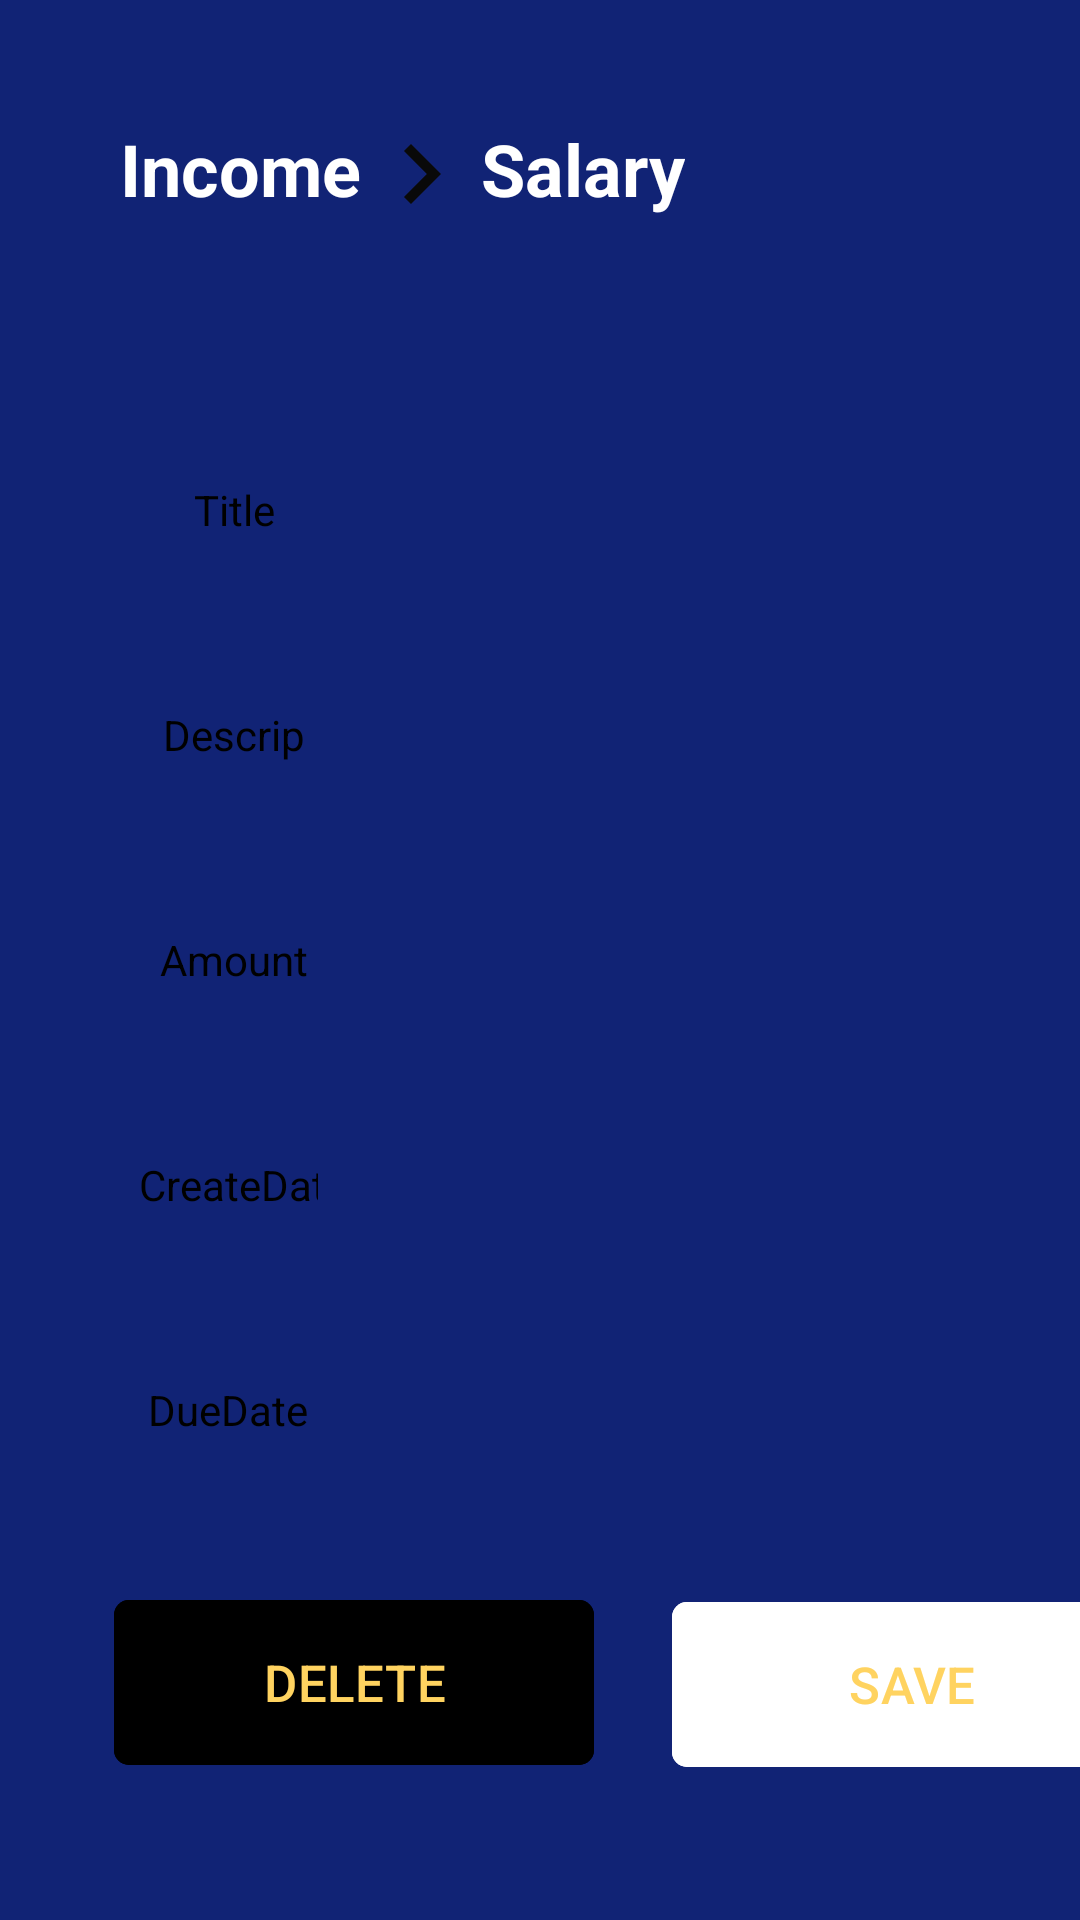

Point at icon controls on the screen. Image size 1080px×1920px, points as (x,y).
arrow right: (422,174)
